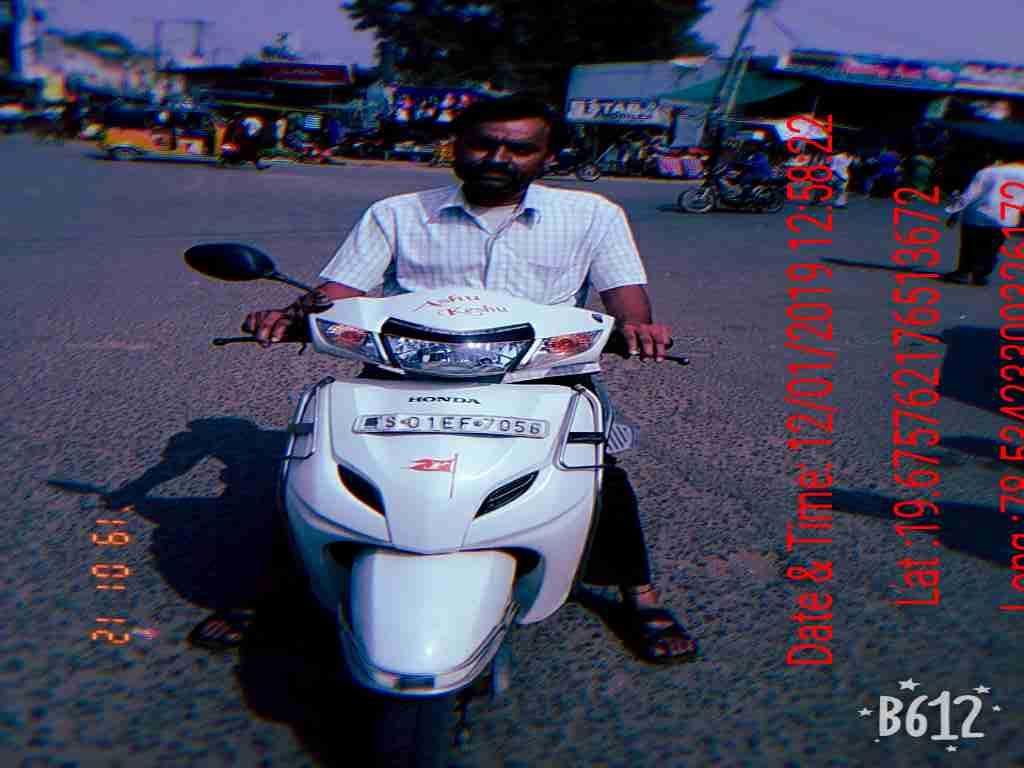plate: (344, 407, 553, 444)
